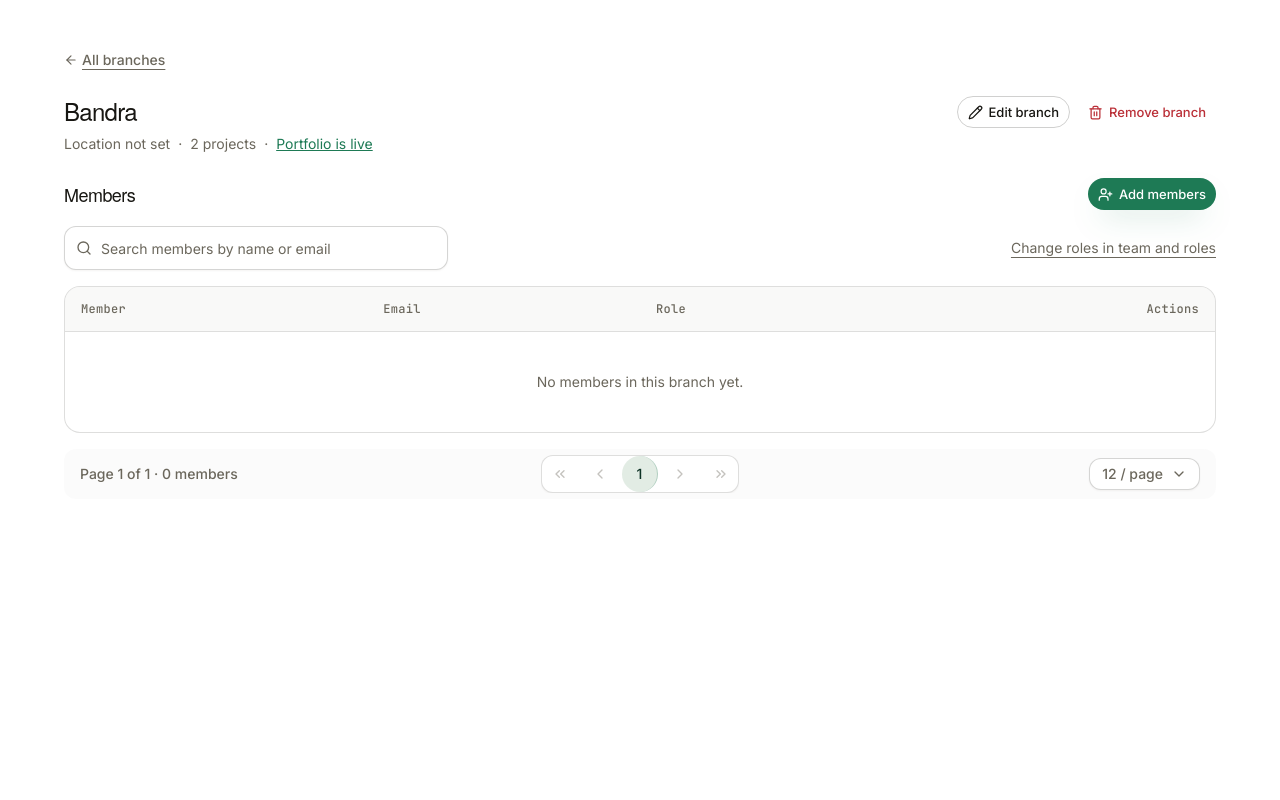
Scenario: DesignerBranches › adds an existing studio member directly to the selected branch
Click the button "Add members" at point(1152, 194), box [1088,178,1216,210]
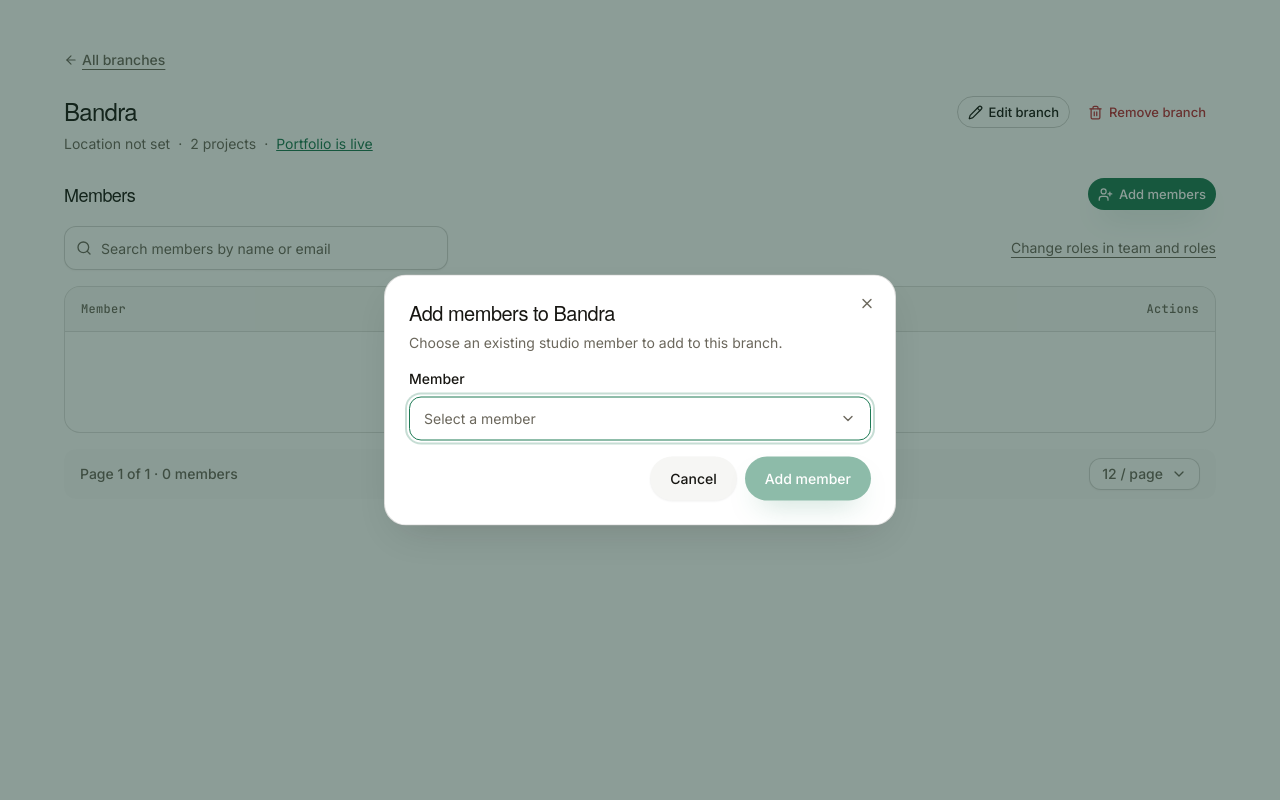
Click the dropdown labelled "member" at point(480, 418), box [409,396,871,440]
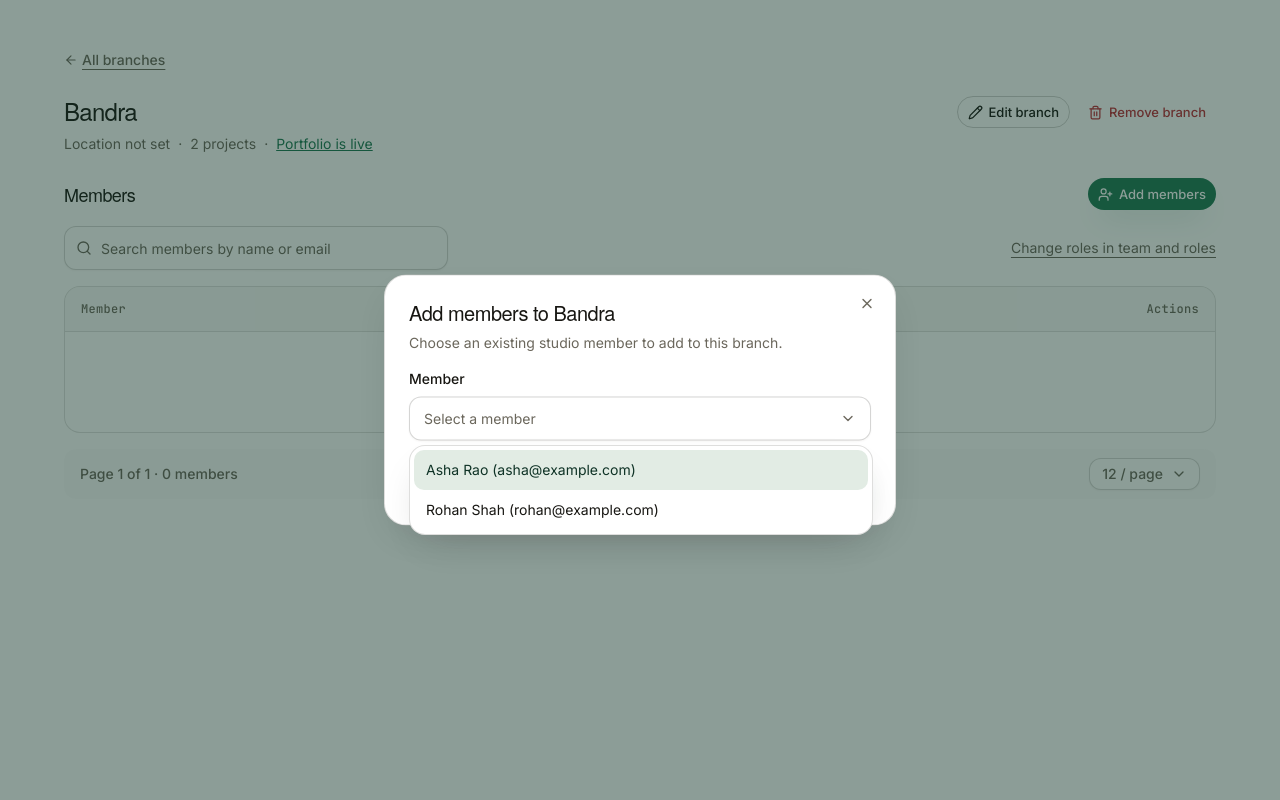
Click the option "Rohan Shah (rohan@example.com)" at point(542, 510), box [426,501,659,518]
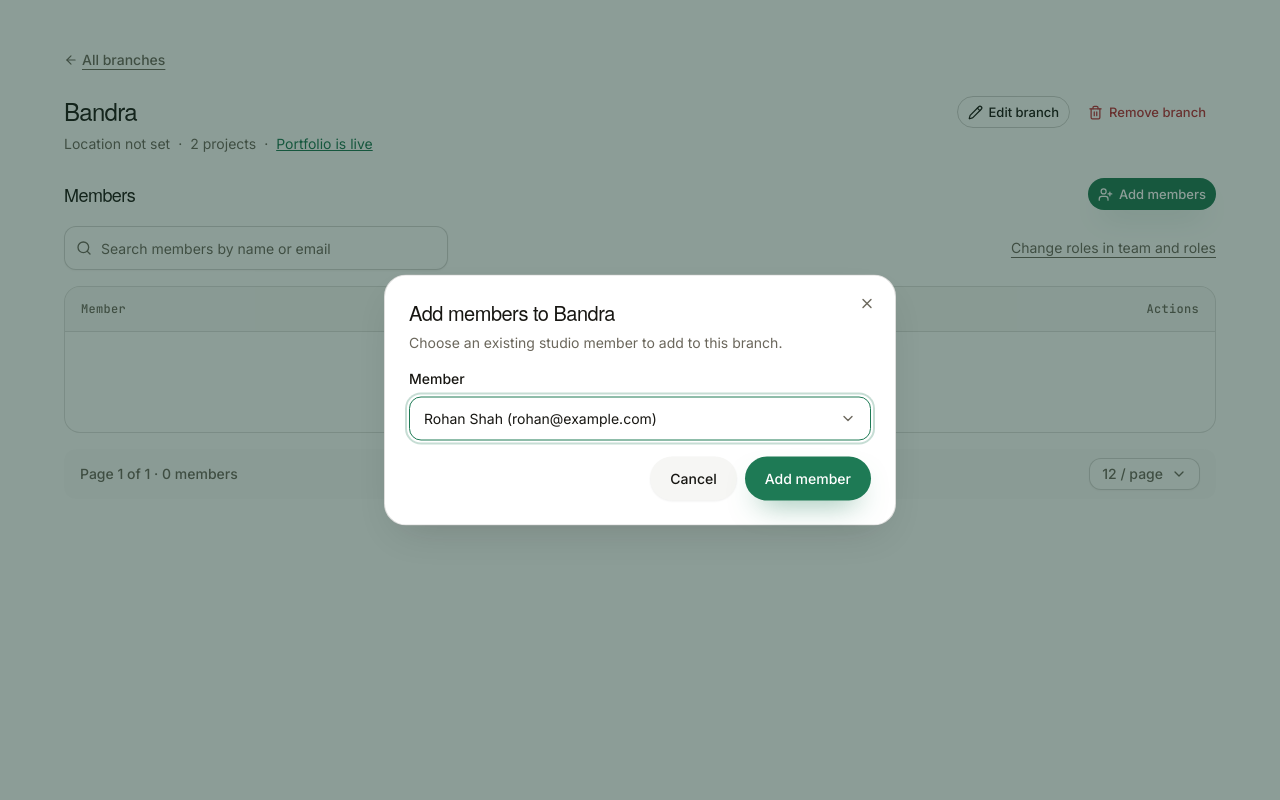
Click the button "Add member" at point(808, 478), box [745,456,871,500]
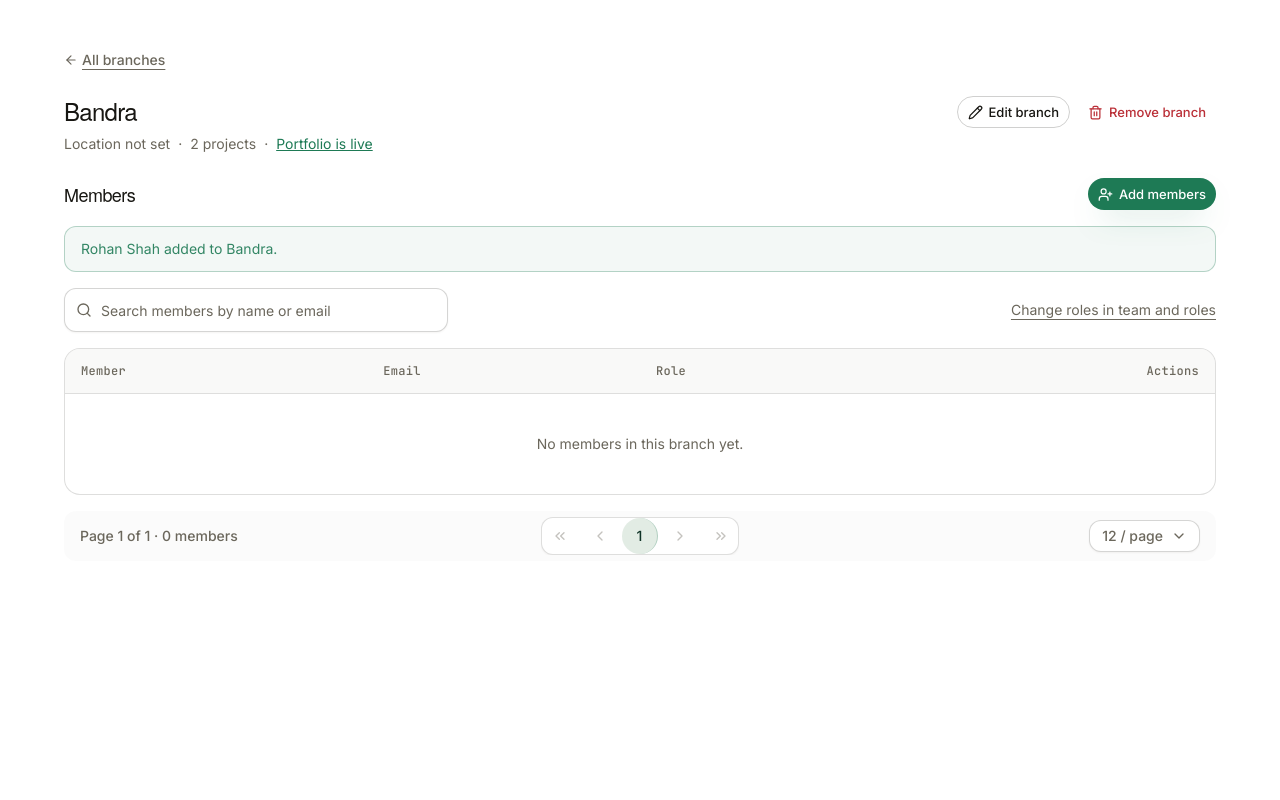
Result: the message reads "Rohan Shah added to Bandra." at [81,240,277,257]
